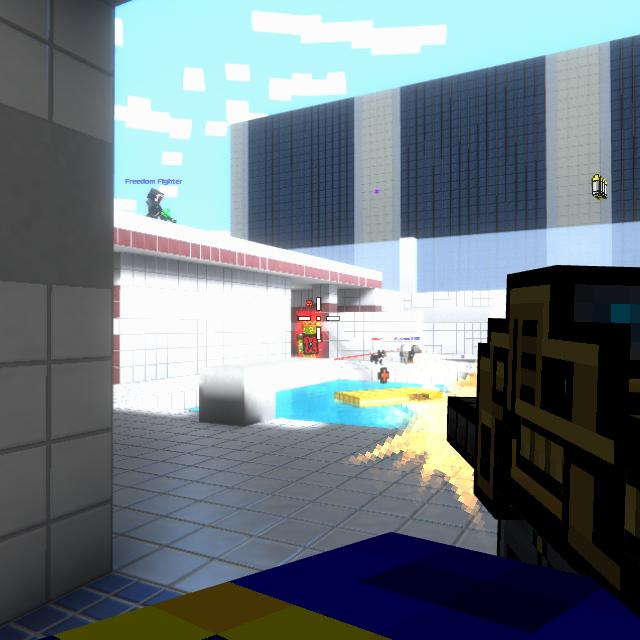Enemy: (297, 321, 322, 357)
